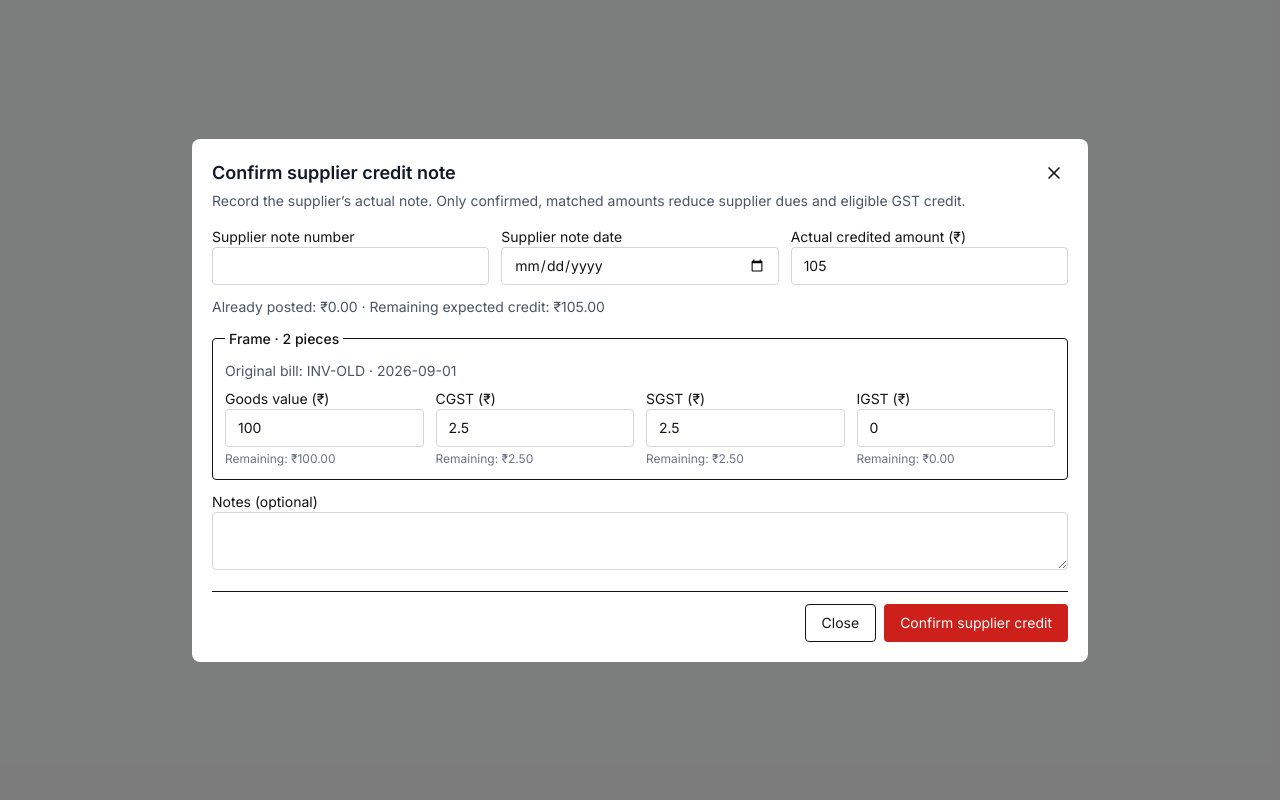
supplier-confirmed credit, separate from internal return notes › rejects amounts beyond the original cap and a mismatch with the actual note
Type "SUP-CN-1" into the field labelled "Supplier note number" at (351, 266), box [212,246,489,284]
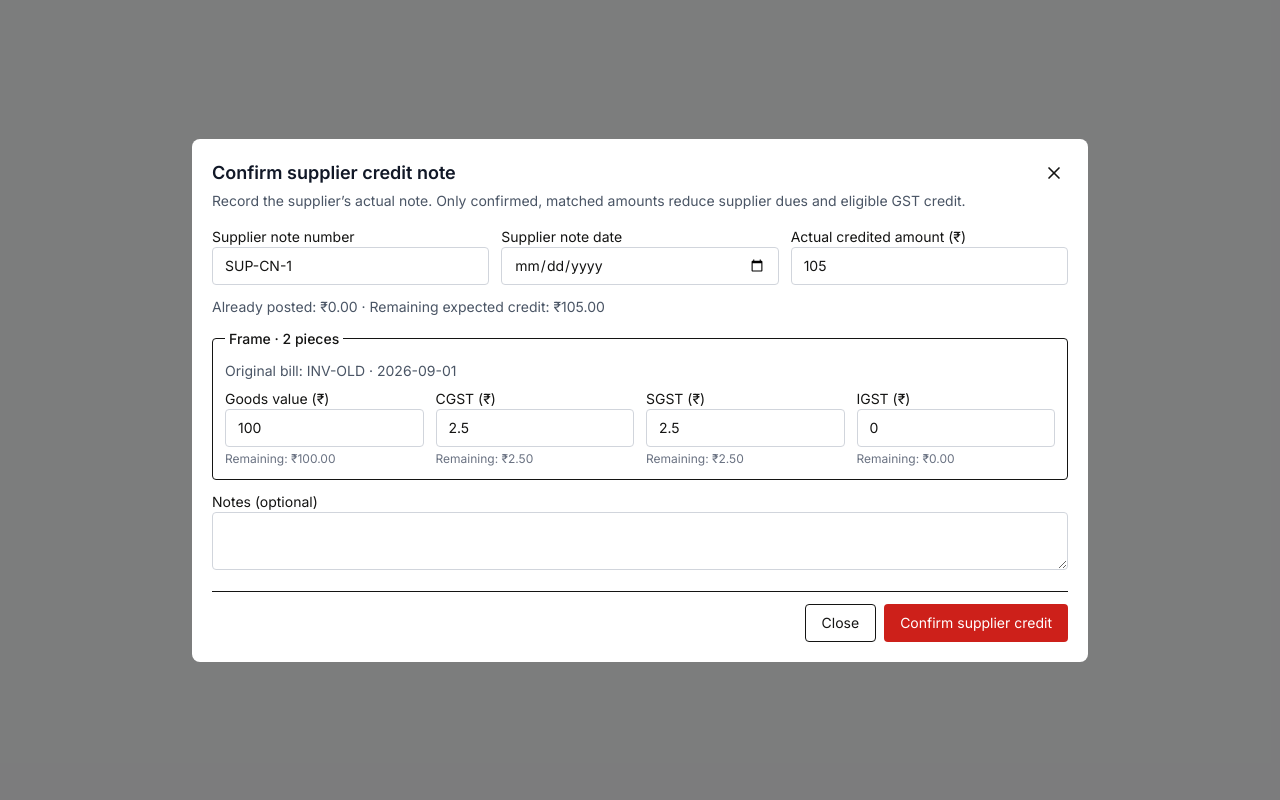
Type "2026-10-18" into the date field labelled "Supplier note date" at (640, 266), box [501,246,779,284]
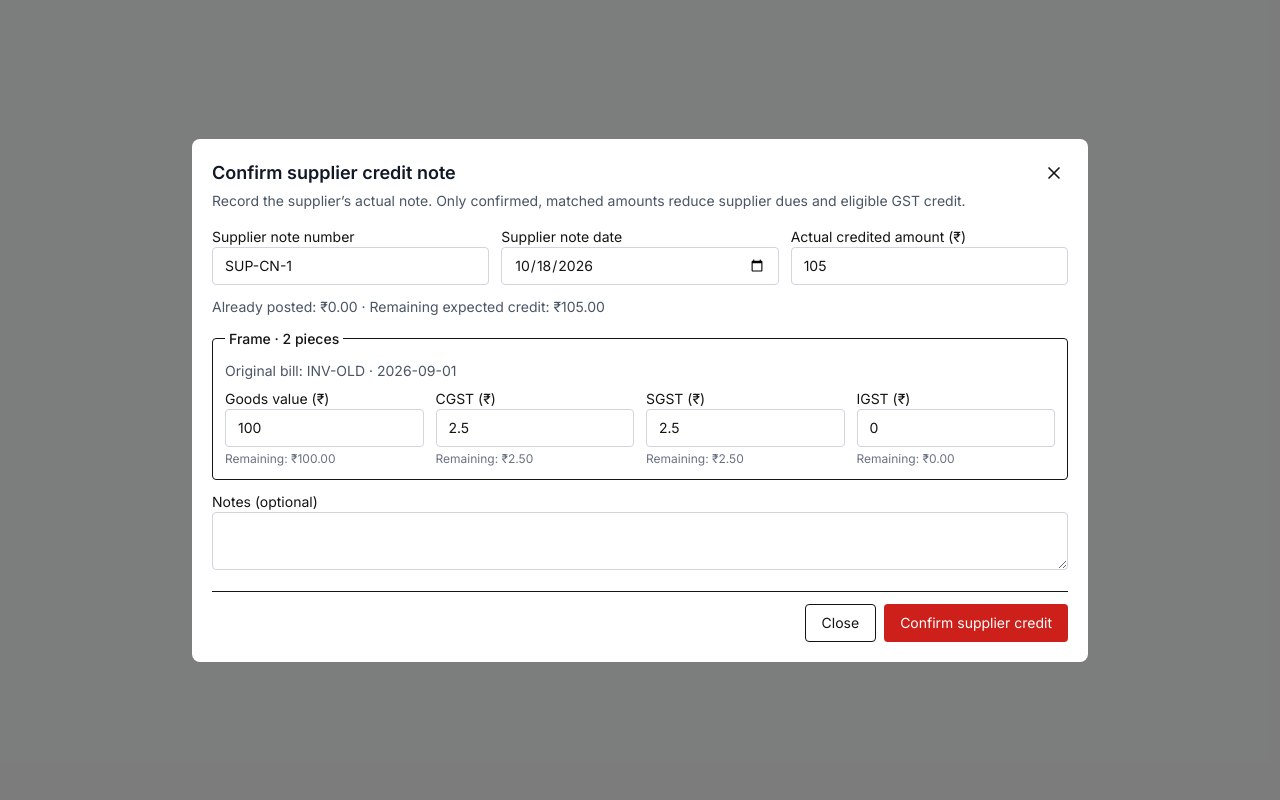
Replace the text in the field named "Goods value for Frame (INV-OLD)" with "101" at (324, 428), box [225,408,424,446]
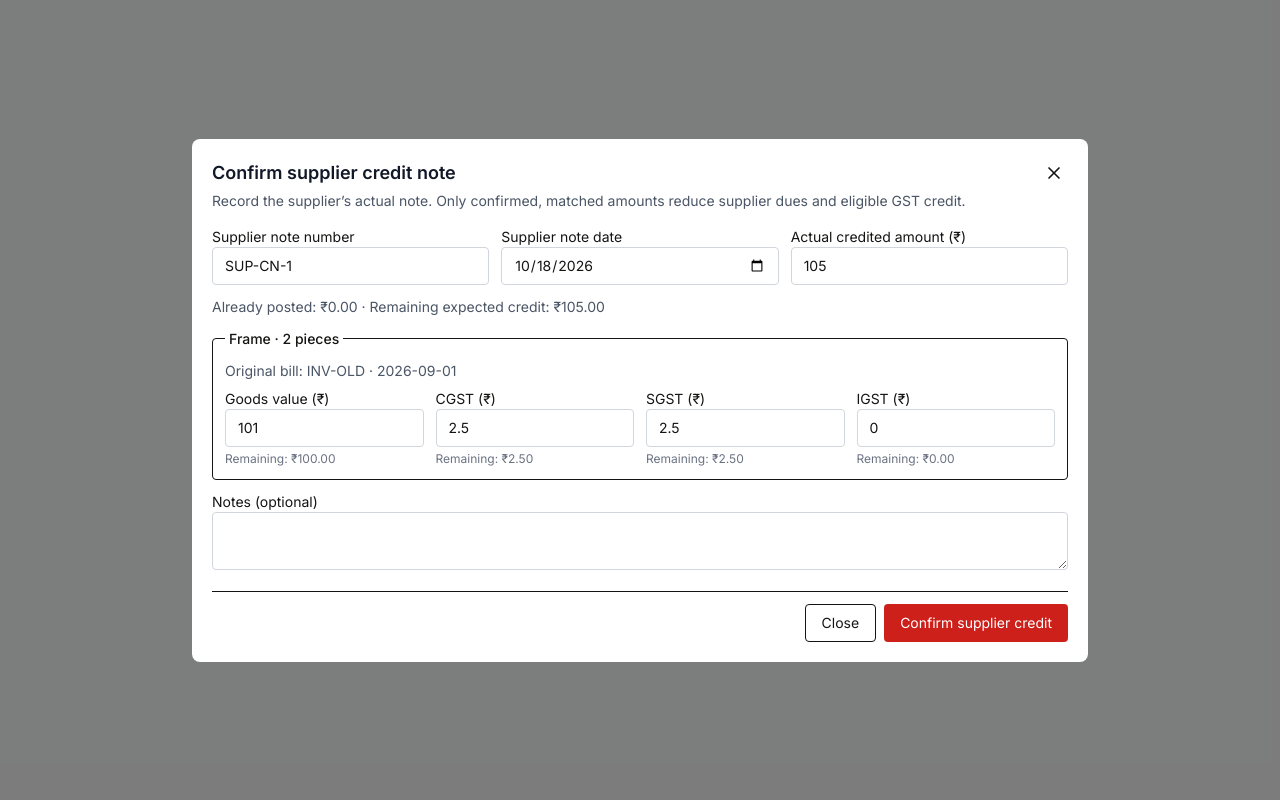
Click the button "Confirm supplier credit" at (976, 622), box [884,604,1068,642]
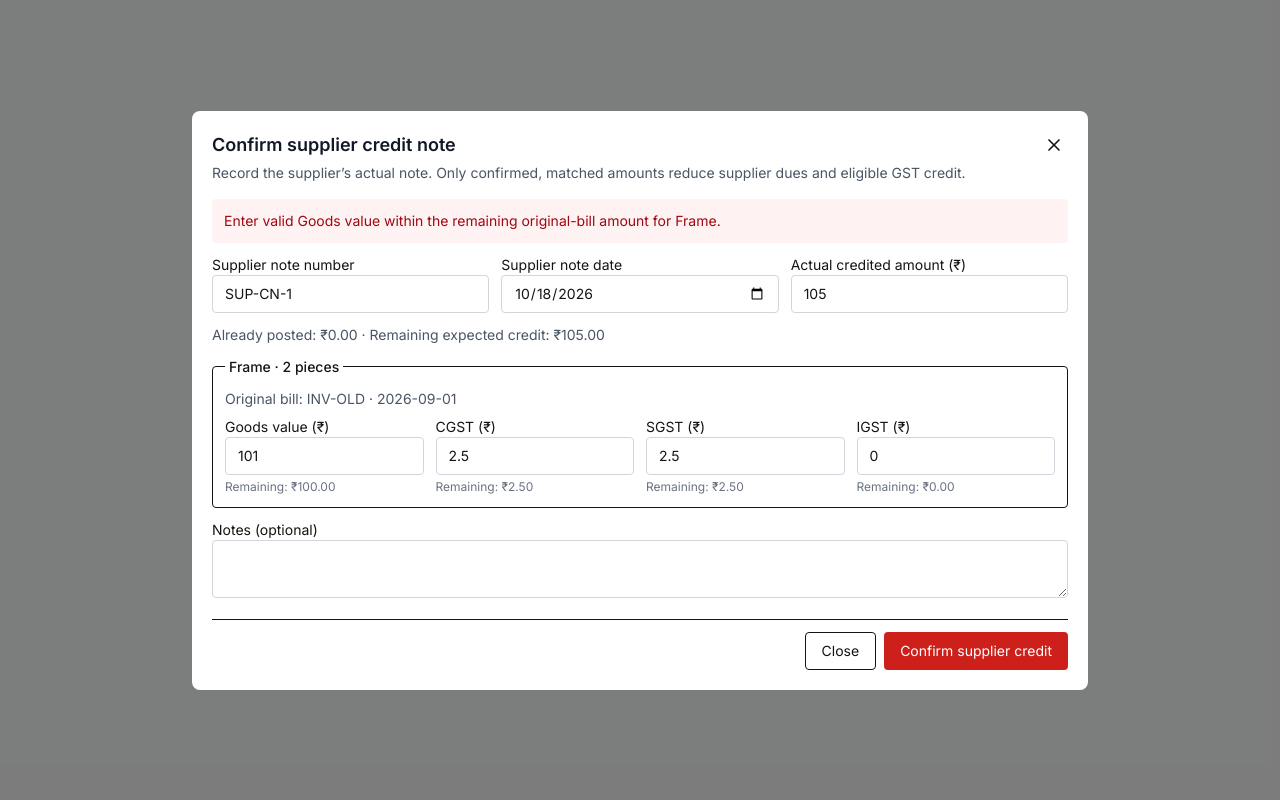
Check: the message shows "within the remaining original-bill amount", box [224,212,721,228]
Replace the text in the field named "Goods value for Frame (INV-OLD)" with "50" at (324, 456), box [225,436,424,474]
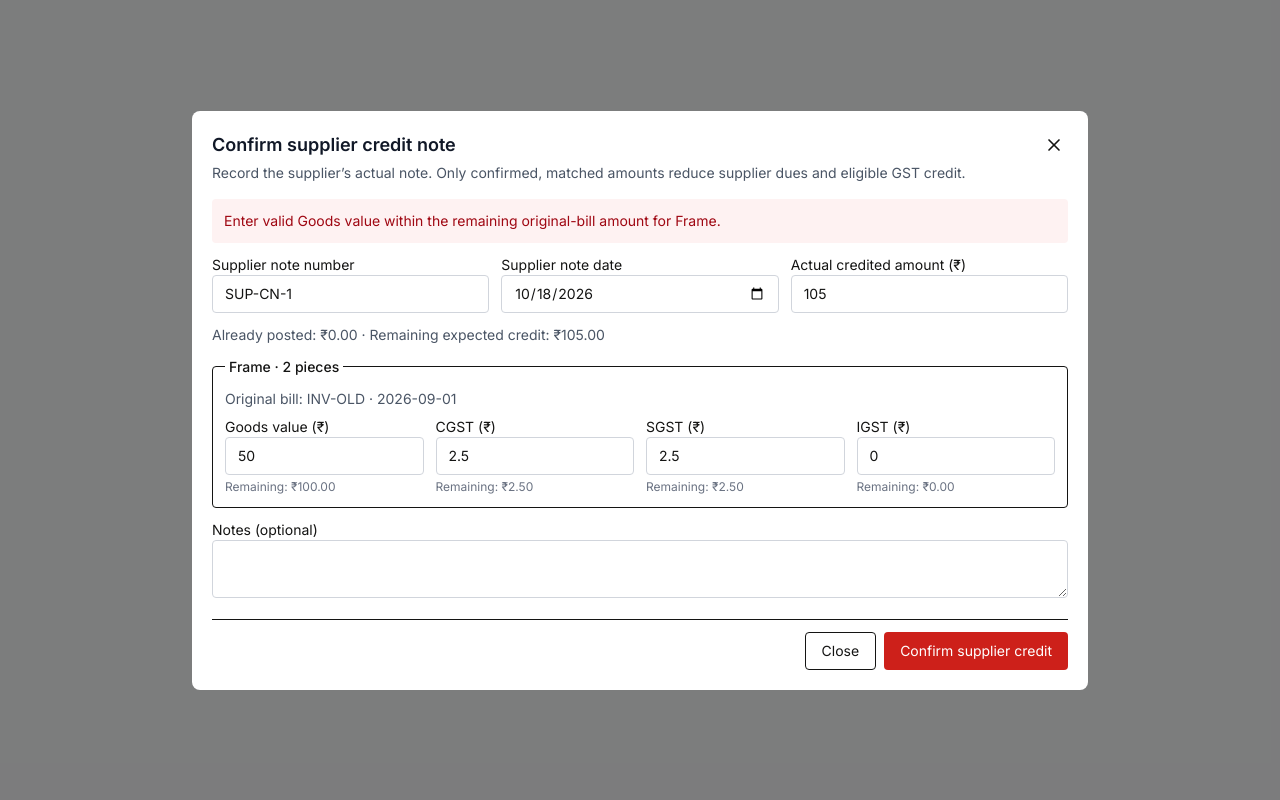
Click the button "Confirm supplier credit" at (976, 650), box [884,632,1068,670]
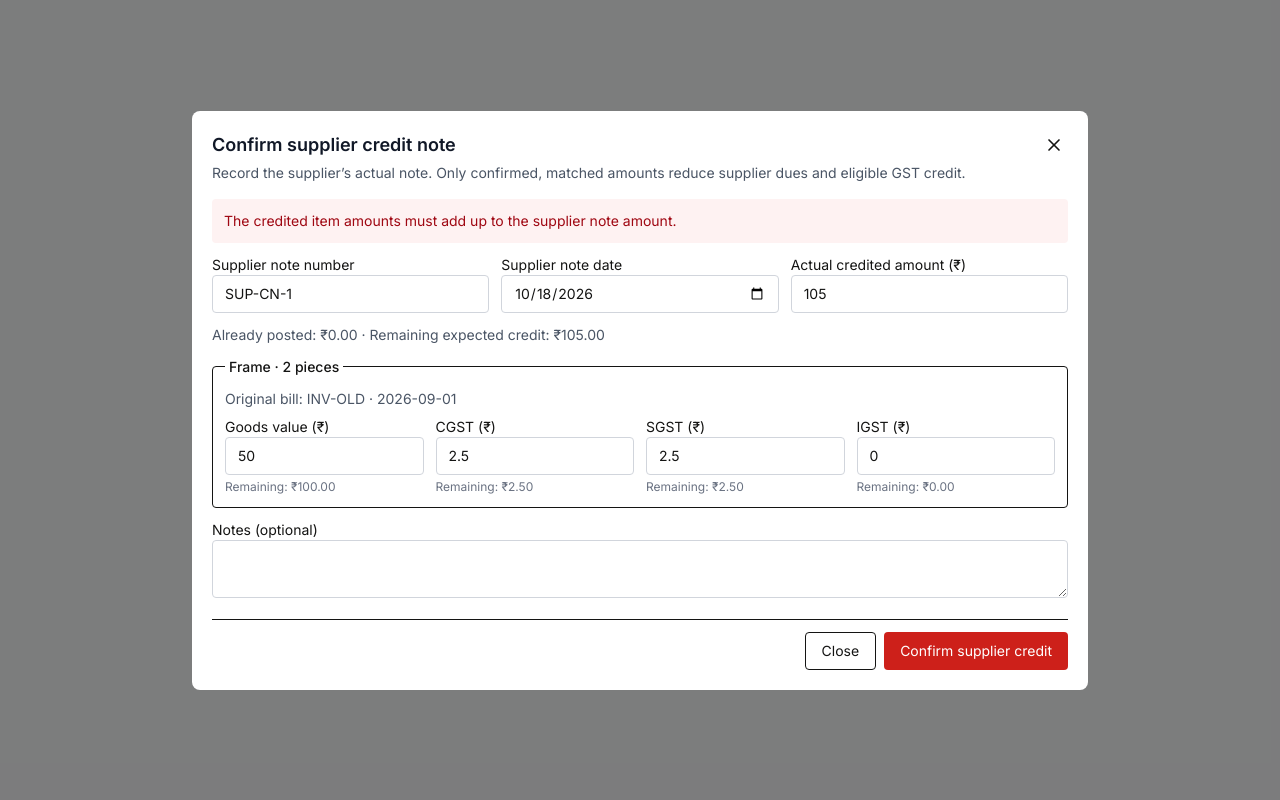
Check: the message shows "must add up", box [224,212,676,228]
